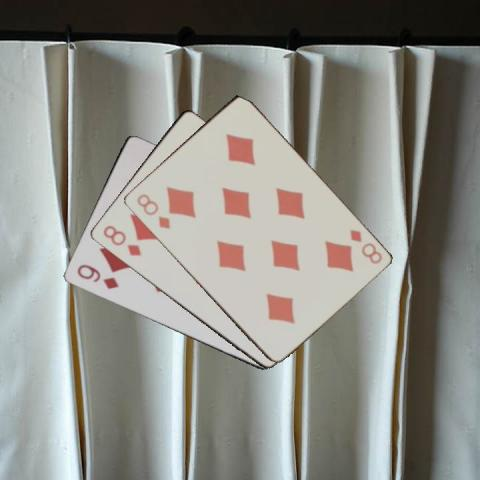8d: (133, 190, 172, 230), (99, 222, 142, 257), (346, 226, 383, 265)
9d: (73, 262, 120, 292)
